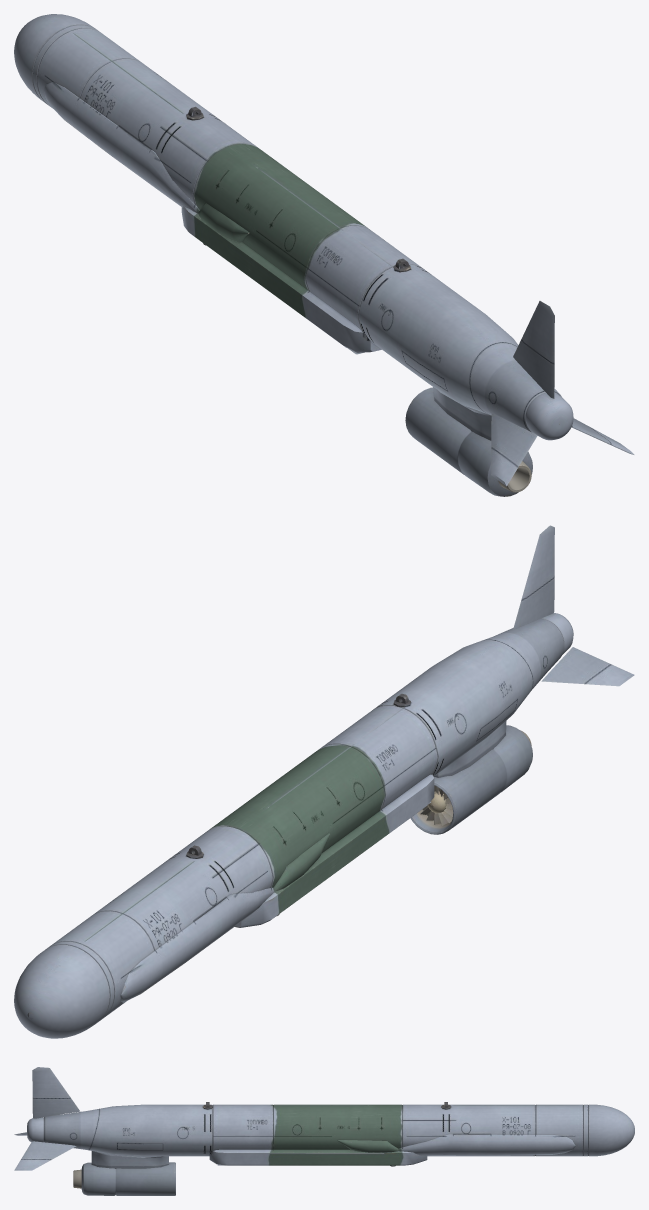
The picture shows the model from 3 angles, top to bottom: view 1: azimuth 30°, elevation 25°; view 2: azimuth 150°, elevation 25°; view 3: azimuth 270°, elevation 25°; orthographic projection. The views are drawn at different scales.
Visible parts, largest first — view 1: K101_body, K101_fixed, nacelle, fin, stab2; view 2: K101_body, K101_fixed, nacelle, fin, stab2, fan; view 3: K101_body, K101_fixed, nacelle, fin, stab1.
Part boxes in pixels (x1=…): K101_body: x1=14, y1=14, x2=573, y2=440; K101_fixed: x1=44, y1=82, x2=410, y2=352; nacelle: x1=405, y1=387, x2=532, y2=496; fin: x1=513, y1=301, x2=554, y2=398; stab2: x1=491, y1=413, x2=537, y2=486; K101_body: x1=14, y1=613, x2=573, y2=1038; K101_fixed: x1=120, y1=693, x2=434, y2=1002; nacelle: x1=410, y1=720, x2=532, y2=834; fin: x1=513, y1=525, x2=554, y2=629; stab2: x1=541, y1=647, x2=634, y2=686; fan: x1=420, y1=787, x2=453, y2=825; K101_body: x1=27, y1=1104, x2=634, y2=1156; K101_fixed: x1=202, y1=1102, x2=575, y2=1165; nacelle: x1=73, y1=1151, x2=175, y2=1195; fin: x1=32, y1=1067, x2=80, y2=1118; stab1: x1=14, y1=1141, x2=76, y2=1170.
Size of the model in its own units: 1.02 by 1.69 by 7.45.
Materials: 2 (2 with a texture image).
